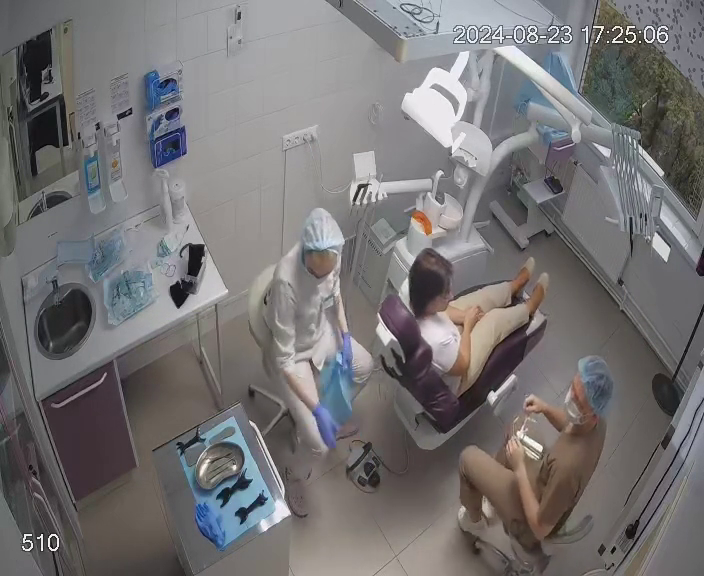Patient: (374, 243, 549, 454)
